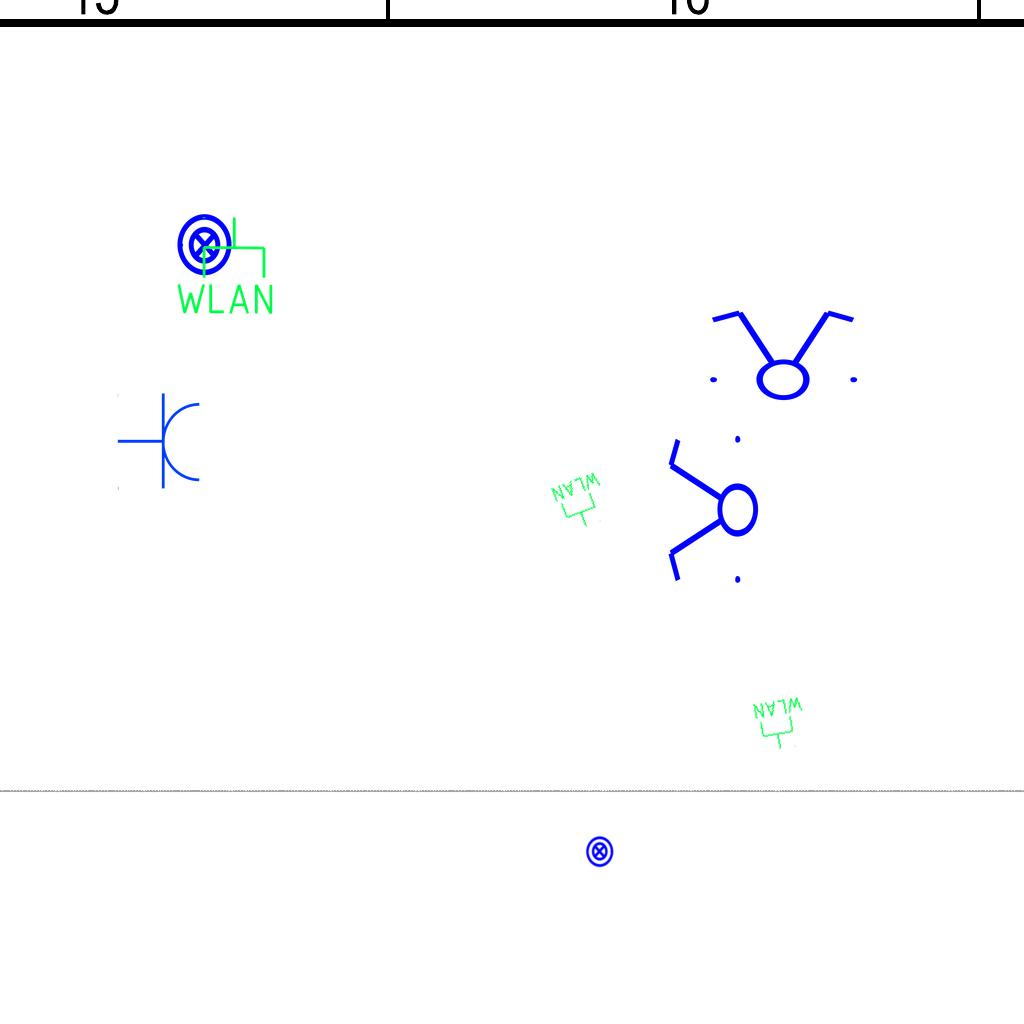Schukosteckdose_einfach: (117, 392, 204, 492)
Serienschalter: (664, 427, 760, 595), (698, 306, 866, 402)
Taster_beleuchtet: (172, 212, 238, 278), (583, 835, 616, 868)
WLAN: (172, 214, 277, 318), (548, 468, 616, 536), (750, 693, 812, 755)
